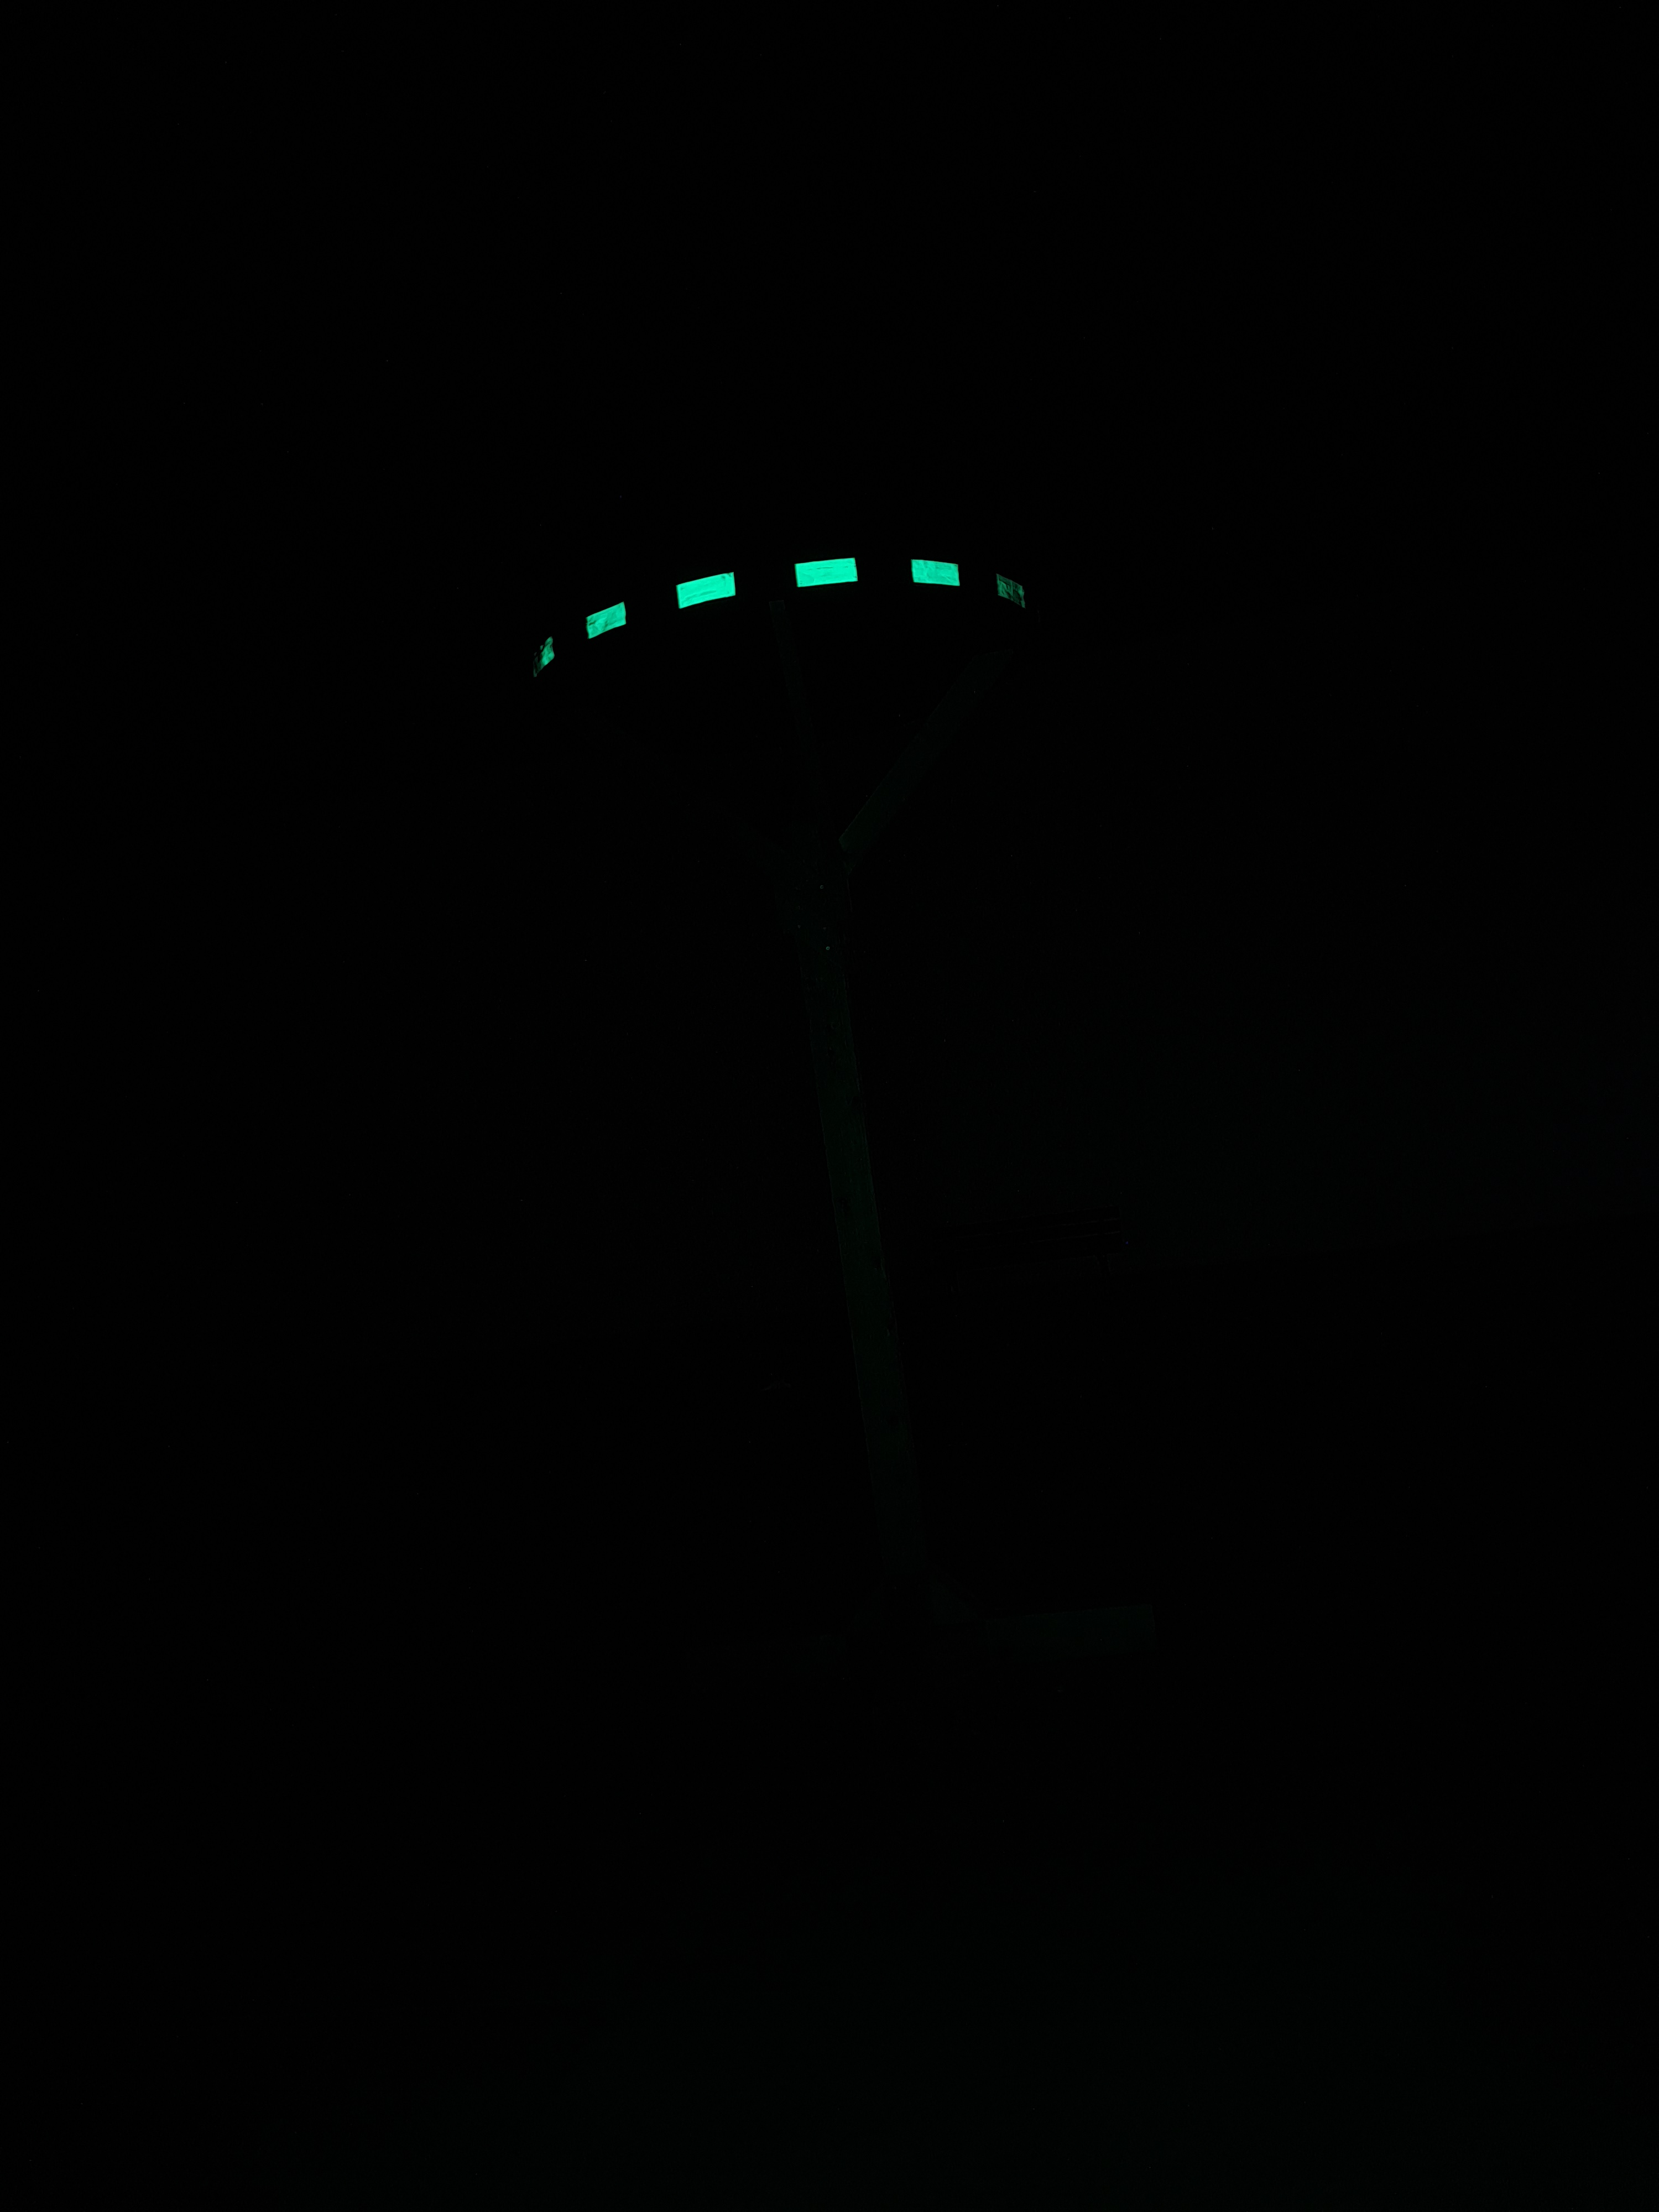hoop: (498, 550, 1060, 681)
